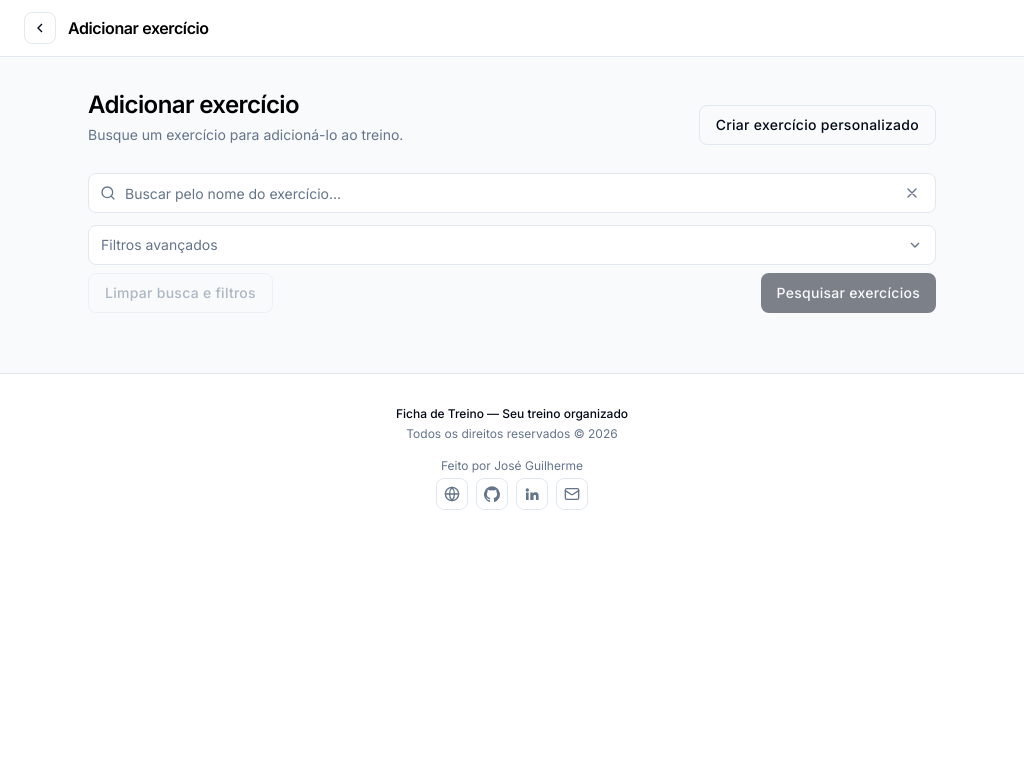
Test: AddExercisePage › closes filters and restores focus after searching from the action bar
In the dropdown named "Buscar exercícios": (512, 193) [88,173,936,213], type "supino"
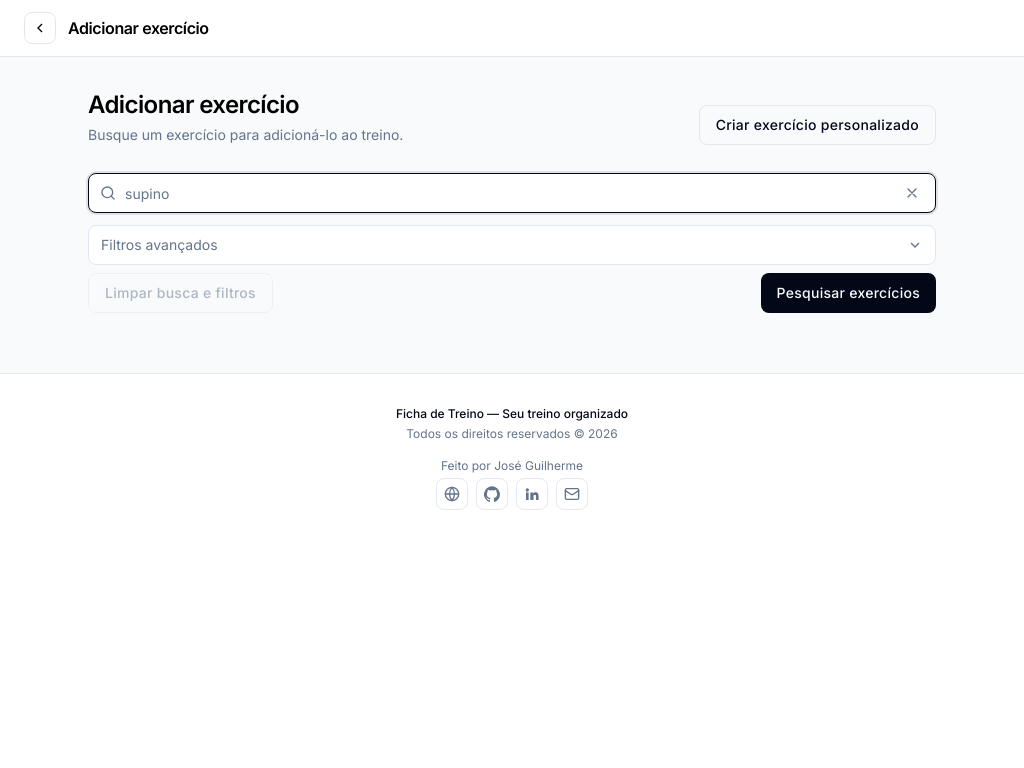
Click the button with aria-label "Mais filtros": (159, 244) [88,225,936,265]
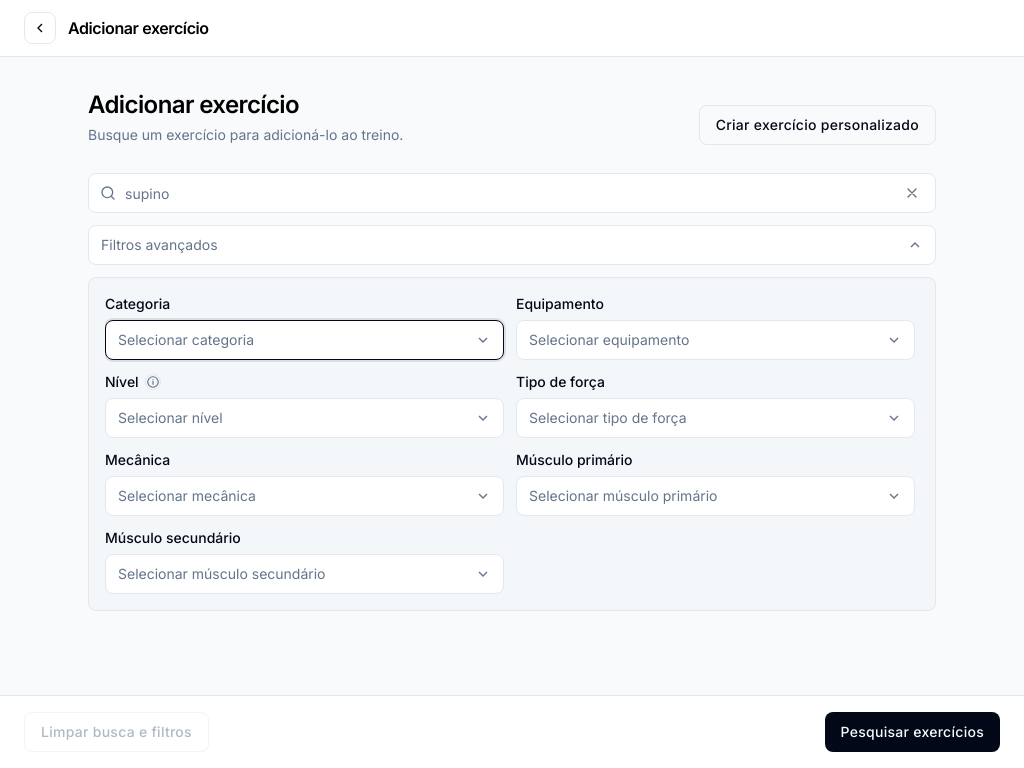
Click the button "Pesquisar exercícios": (912, 732) [824,712,1000,752]
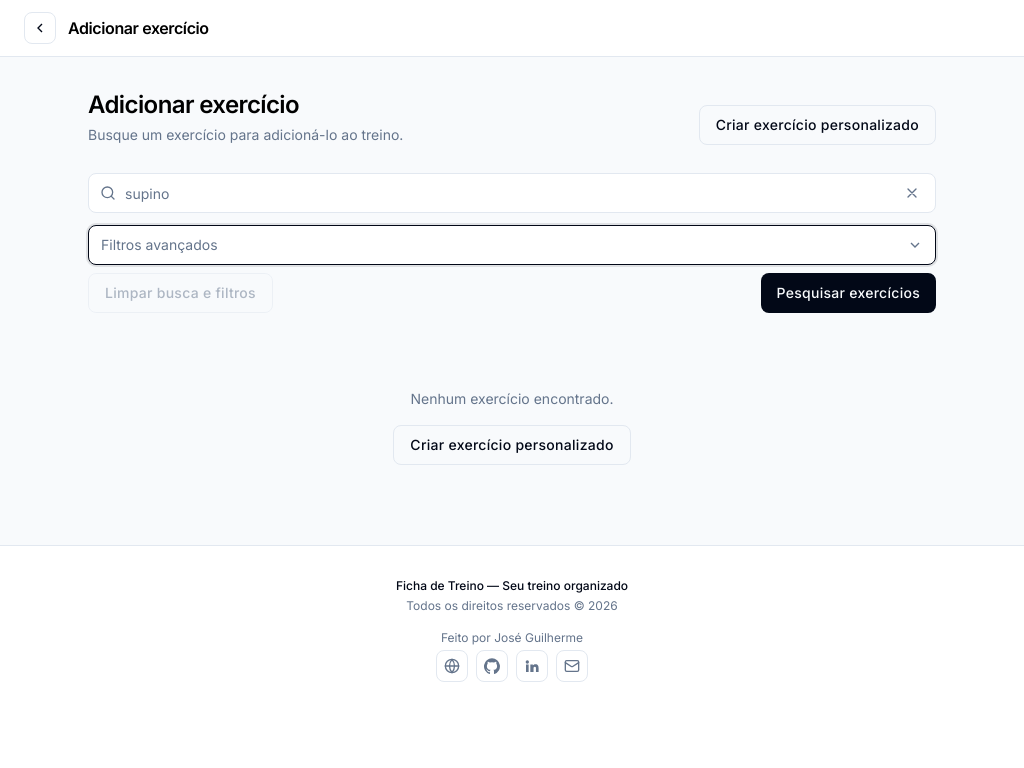
Check: the button with aria-label "Mais filtros" is collapsed, box [88,225,936,265]
